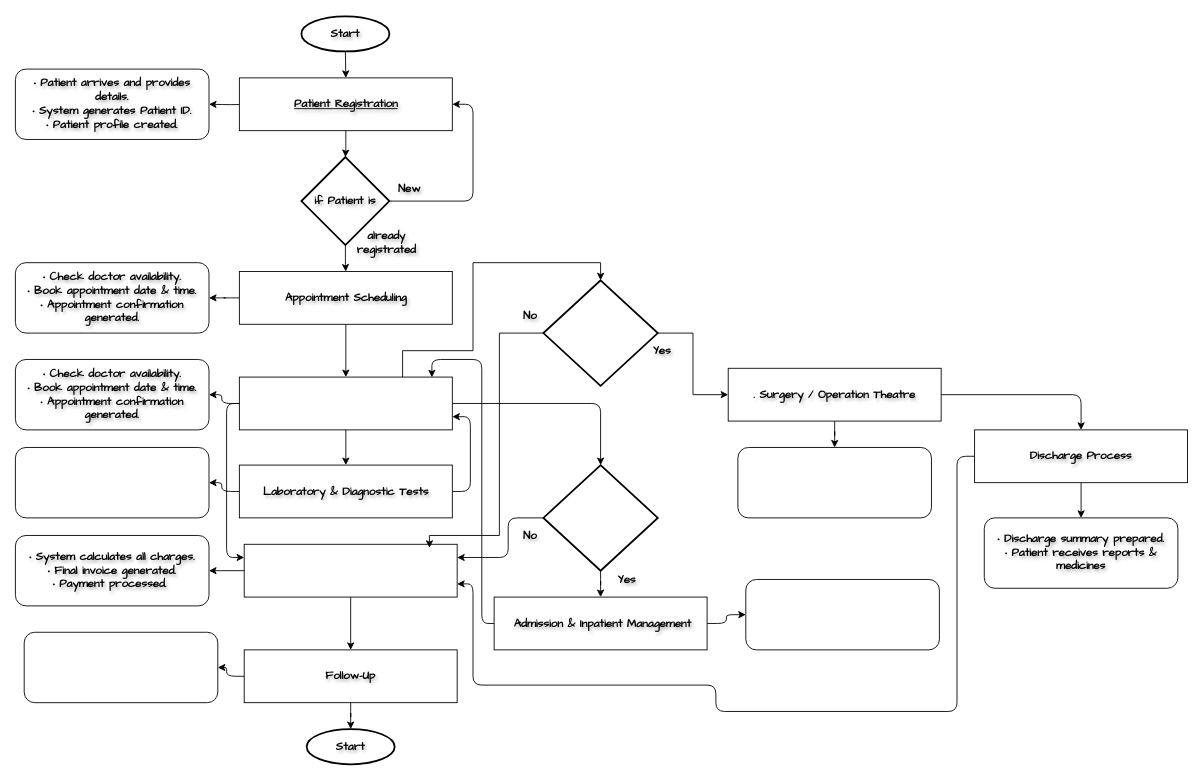
The diagram is 1203 pixels wide and 780 high, and some of its shapes have lost their labels. The shapes that lost their labels are listed below. From the top down, each one's box as (x1, y1, x2, y2) in pixels, then its label:
(542, 279, 658, 386): if Surgery Required
(238, 376, 452, 430): Doctor Consultation
(15, 447, 209, 518): Lab conducts tests. • Results uploaded. • Doctor reviews results
(737, 447, 931, 518): • Pre-surgery checklist. • Surgery performed. • Post-surgery monitored
(542, 464, 658, 571): if Required to Admit Patient
(243, 543, 457, 597): Billing & Payment
(745, 579, 939, 650): • Room/ward allocated. • Daily vitals, medication & treatment recorded.
(23, 631, 218, 703): • Feedback collected. • Follow-up appointment scheduled
